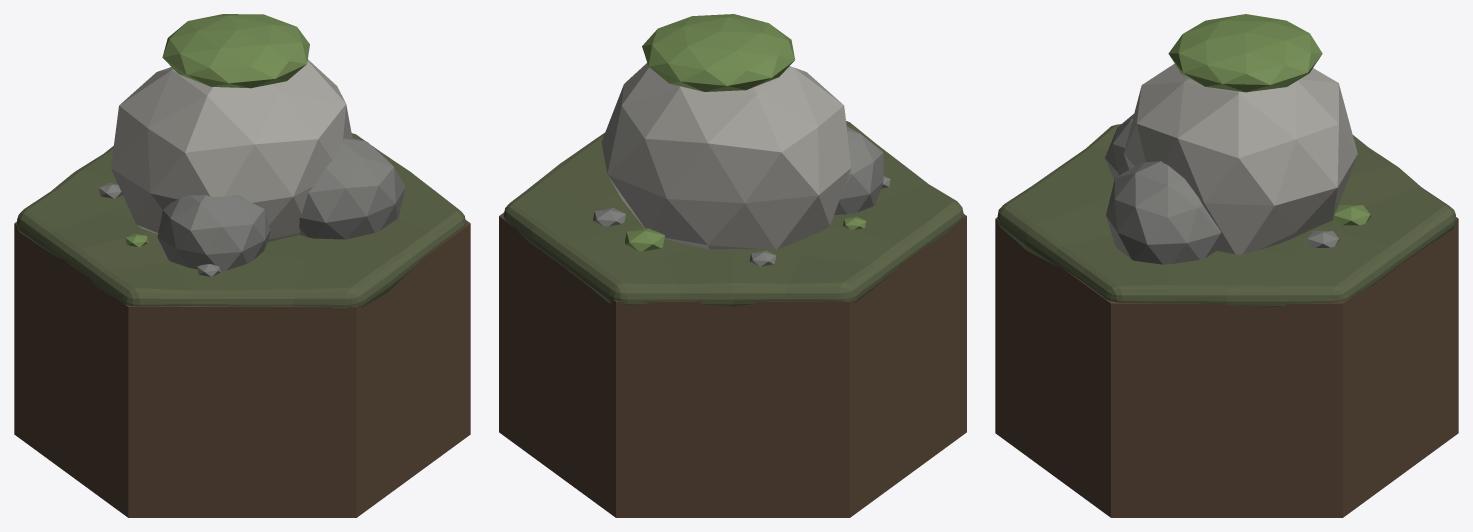
Rendered from hex_stone.glb.
3 renders of one model, left to right at view 1: azimuth 30°, elevation 25°; view 2: azimuth 150°, elevation 25°; view 3: azimuth 270°, elevation 25°, orthographic. The views are drawn at different scales.
Parts seen in each view (by area): view 1: hex_stone; view 2: hex_stone; view 3: hex_stone.
Boxes of the visible parts, box(x1,y1,x2,y2) form: hex_stone: box(14, 14, 470, 517); hex_stone: box(499, 14, 966, 517); hex_stone: box(995, 14, 1458, 517).
Bounding box in the file's own units: 1.7 × 1.88 × 1.96.
